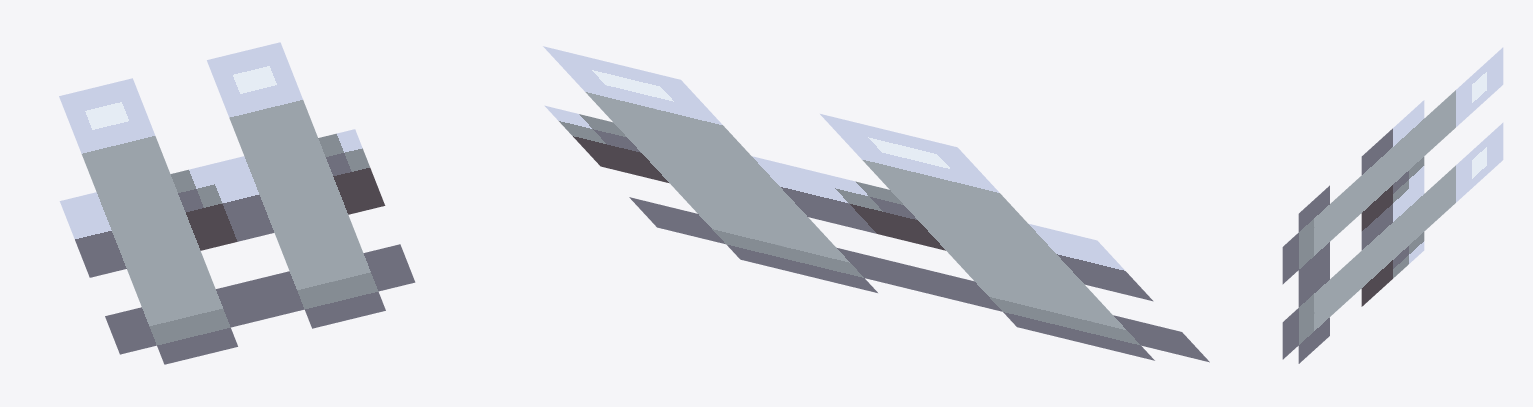
3 renders of one model, left to right at view 1: azimuth 30°, elevation 25°; view 2: azimuth 150°, elevation 25°; view 3: azimuth 270°, elevation 25°, orthographic. The views are drawn at different scales.
Size of the model in its own units: 1 by 0.707 by 0.707.
Materials: 1 (1 with a texture image).
